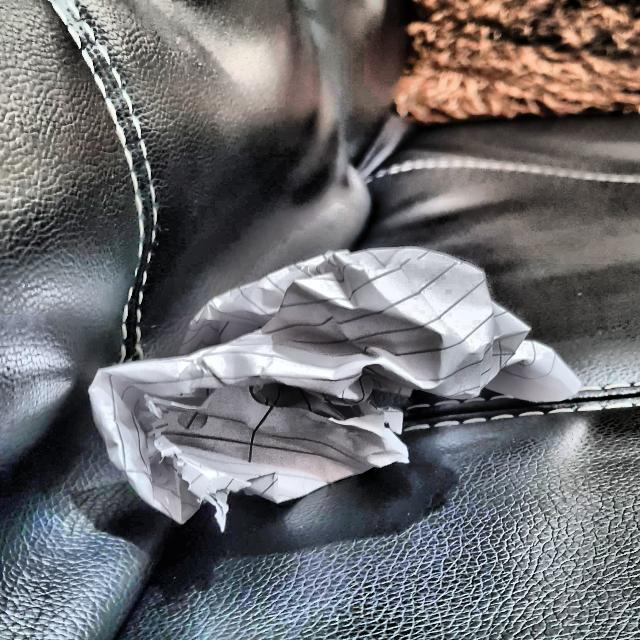paper: (113, 220, 541, 538)
